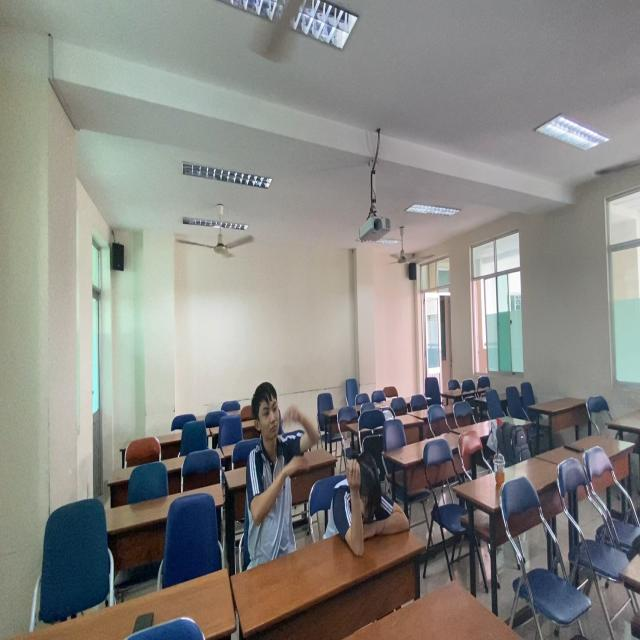sleep: (328, 448, 417, 560)
